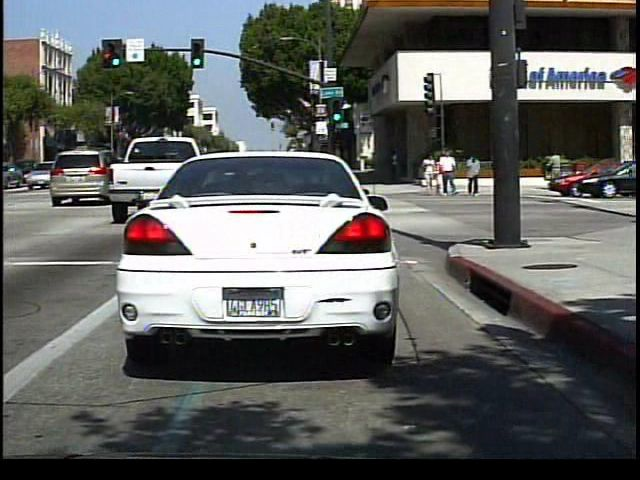person: (439, 145, 460, 197), (465, 148, 486, 198), (421, 149, 441, 198), (545, 148, 567, 192)
